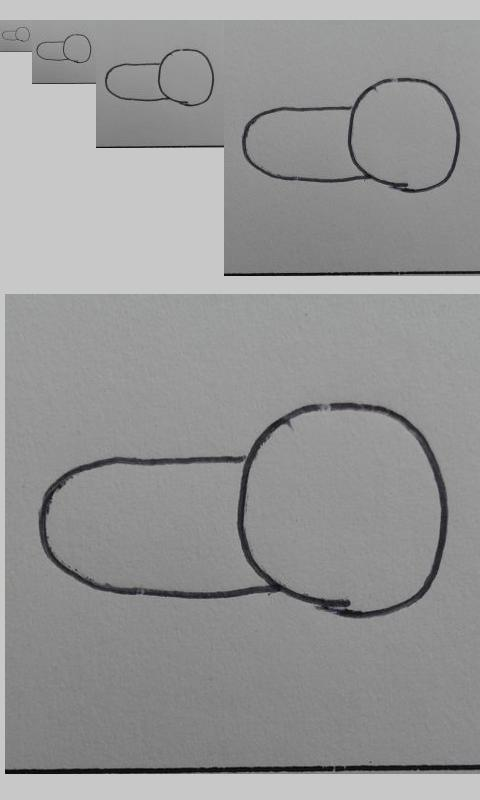switch: (37, 401, 450, 620), (241, 77, 462, 193), (105, 48, 215, 107), (36, 33, 92, 64), (1, 26, 30, 42)
